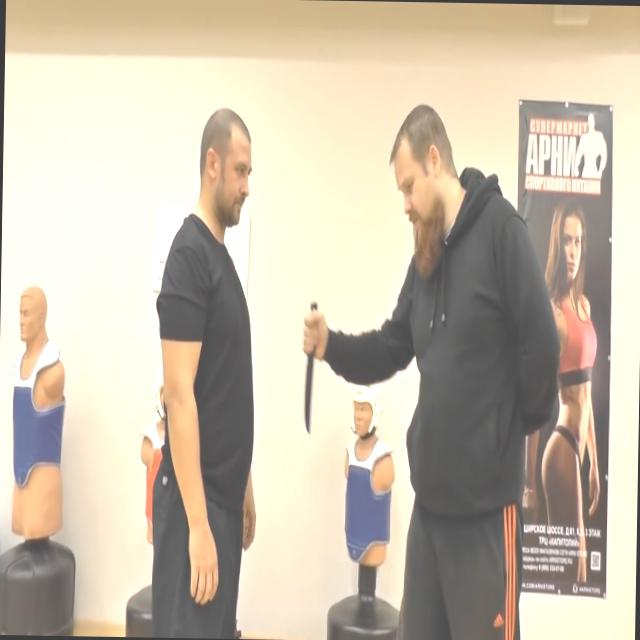knife: (294, 294, 322, 439)
